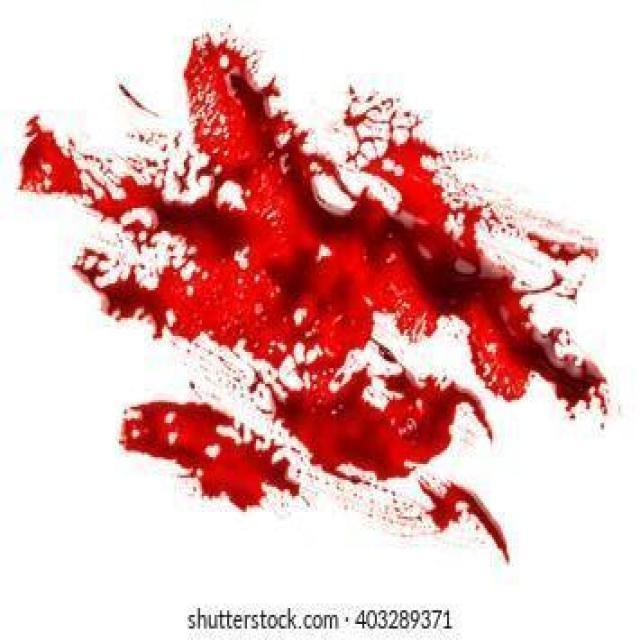flood: (23, 29, 611, 534)
